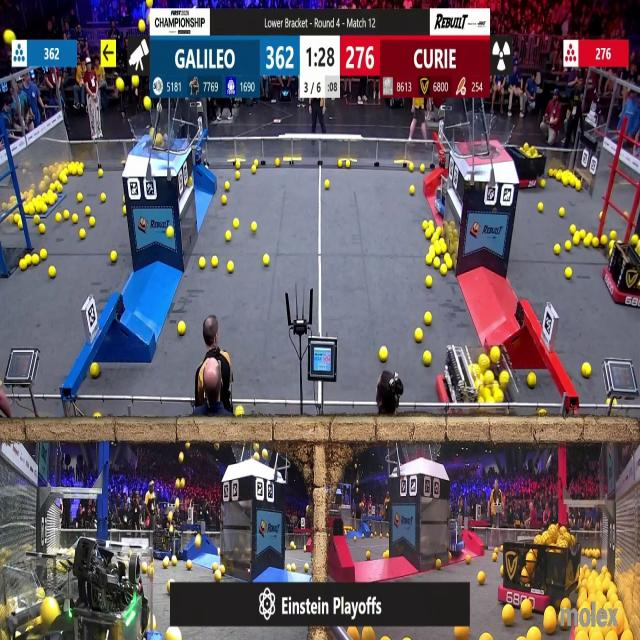ball_airborne: (456, 626, 468, 640), (346, 628, 358, 640), (362, 628, 373, 640), (4, 29, 13, 43), (116, 78, 123, 91), (154, 135, 161, 148), (144, 97, 150, 111), (133, 75, 140, 87), (139, 22, 146, 32), (168, 513, 174, 523), (176, 479, 181, 489), (179, 453, 184, 463), (175, 498, 180, 508), (264, 450, 269, 460), (146, 0, 152, 8), (182, 480, 187, 489), (254, 453, 259, 461)
ball_ground: (502, 606, 514, 626), (529, 628, 543, 640), (522, 602, 532, 618), (168, 629, 181, 640), (583, 362, 592, 376), (92, 362, 100, 377), (528, 374, 536, 388), (424, 352, 432, 366), (381, 347, 388, 362), (415, 328, 423, 341), (424, 312, 431, 326), (178, 321, 185, 335), (479, 570, 486, 584), (432, 256, 440, 268), (18, 261, 26, 272), (214, 570, 222, 581), (600, 236, 608, 247), (236, 410, 244, 420), (226, 263, 233, 274), (48, 268, 55, 279), (110, 251, 117, 262), (565, 269, 572, 280), (168, 228, 175, 239), (194, 535, 200, 547), (32, 254, 39, 264), (441, 266, 448, 276), (592, 238, 599, 248), (562, 176, 569, 186), (482, 633, 492, 640), (212, 256, 218, 267), (426, 276, 432, 287), (264, 254, 270, 265), (200, 257, 206, 268), (40, 249, 46, 260), (435, 245, 441, 256), (426, 255, 433, 264), (572, 237, 579, 246), (632, 236, 639, 245), (251, 221, 257, 231), (435, 560, 441, 570), (186, 560, 192, 570), (555, 244, 561, 254), (410, 184, 416, 194), (39, 223, 45, 233), (326, 182, 332, 192), (234, 218, 240, 228), (64, 211, 70, 221), (26, 255, 32, 265), (83, 208, 90, 216), (442, 244, 447, 255), (72, 214, 78, 223), (559, 208, 565, 217), (570, 224, 576, 233), (172, 557, 178, 566), (57, 213, 63, 222), (610, 232, 616, 241), (540, 179, 546, 188), (585, 239, 591, 248), (76, 192, 82, 201), (425, 231, 431, 240), (58, 183, 64, 192), (25, 206, 31, 215), (592, 560, 598, 569), (91, 216, 96, 226), (225, 232, 230, 242), (538, 203, 543, 213), (579, 229, 584, 239), (448, 261, 453, 271), (538, 411, 545, 418), (100, 192, 106, 200), (492, 554, 498, 562), (236, 162, 242, 170), (221, 197, 227, 205), (290, 564, 296, 572), (365, 553, 371, 561), (588, 232, 594, 240), (556, 173, 562, 181), (99, 169, 104, 178), (565, 239, 570, 248), (165, 559, 170, 568), (575, 181, 580, 190), (423, 220, 428, 229), (420, 166, 426, 173), (547, 169, 553, 176), (77, 169, 83, 176), (95, 414, 101, 421), (80, 230, 84, 240), (384, 552, 389, 560), (214, 562, 219, 570), (276, 160, 281, 168), (35, 215, 40, 223), (339, 161, 344, 169), (608, 240, 613, 248), (224, 181, 228, 190), (346, 162, 351, 169), (252, 167, 256, 175), (237, 172, 241, 180), (466, 556, 470, 564), (306, 564, 310, 572), (410, 165, 414, 173), (500, 566, 504, 574), (17, 220, 21, 228), (122, 206, 125, 215), (217, 550, 220, 557), (353, 536, 356, 540)
goal: (459, 118, 516, 158), (128, 115, 186, 152)
robot_blue: (152, 528, 186, 559)
robot_red: (440, 344, 514, 419), (499, 540, 553, 611), (604, 238, 640, 309), (514, 144, 546, 188)
